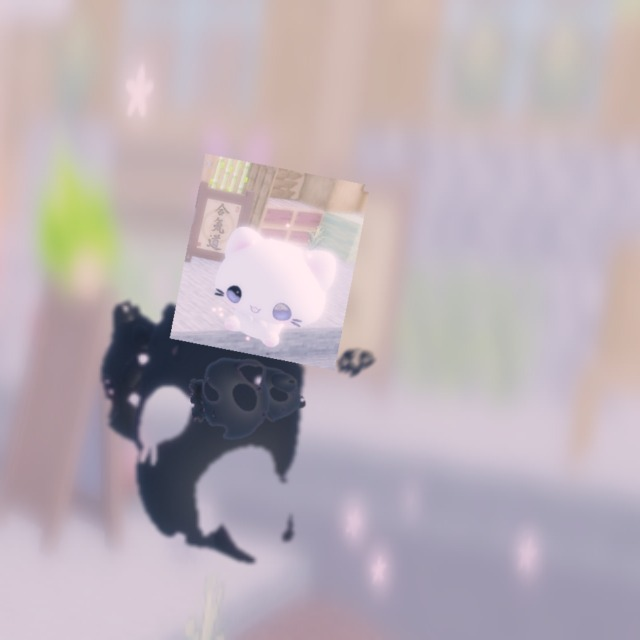urso_branco: (169, 153, 371, 371)
urso_preto: (70, 220, 348, 608), (185, 343, 318, 453), (335, 343, 380, 382)
